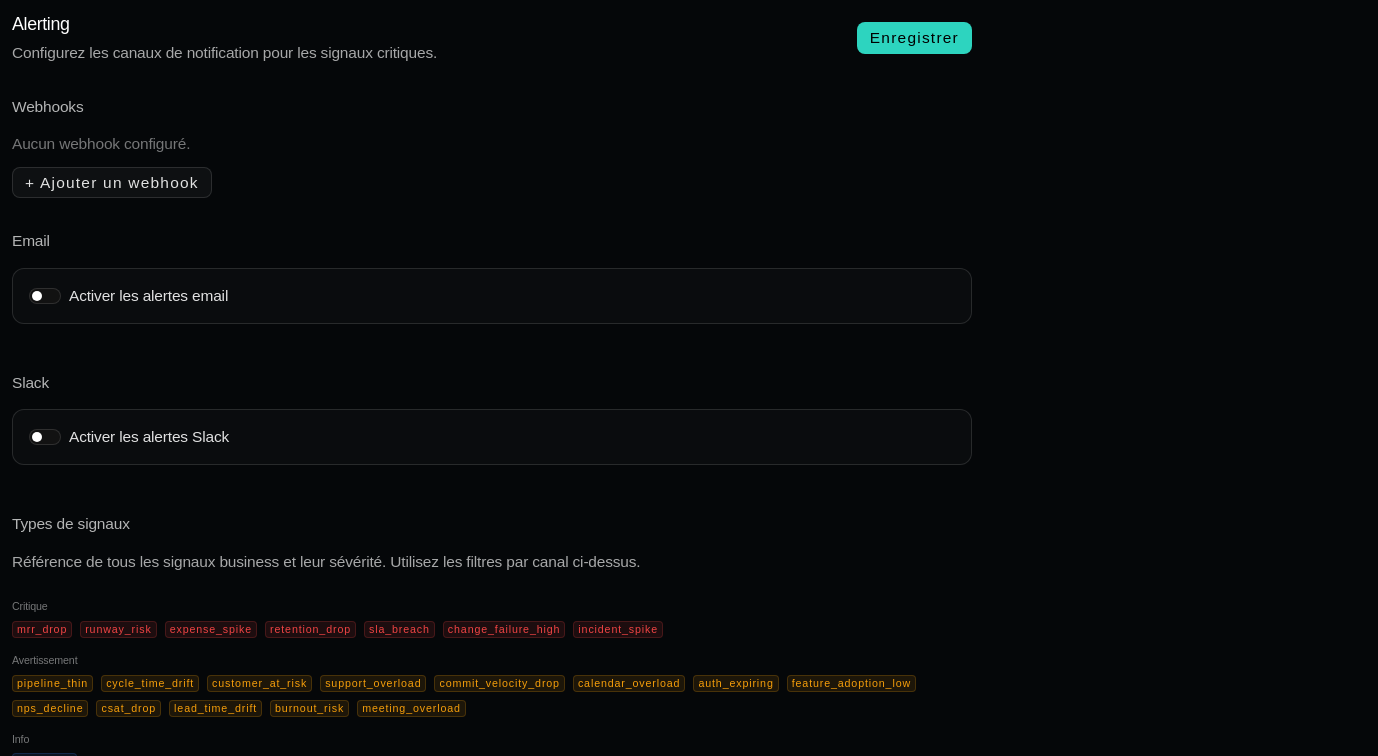
AlertingSettings — ajout webhook › ajoute un webhook valide et masque le formulaire
Expected: the heading "Alerting" is shown, [12, 14, 70, 34]
Click the button "+ Ajouter un webhook".
click(112, 183)  # box [12, 167, 212, 198]
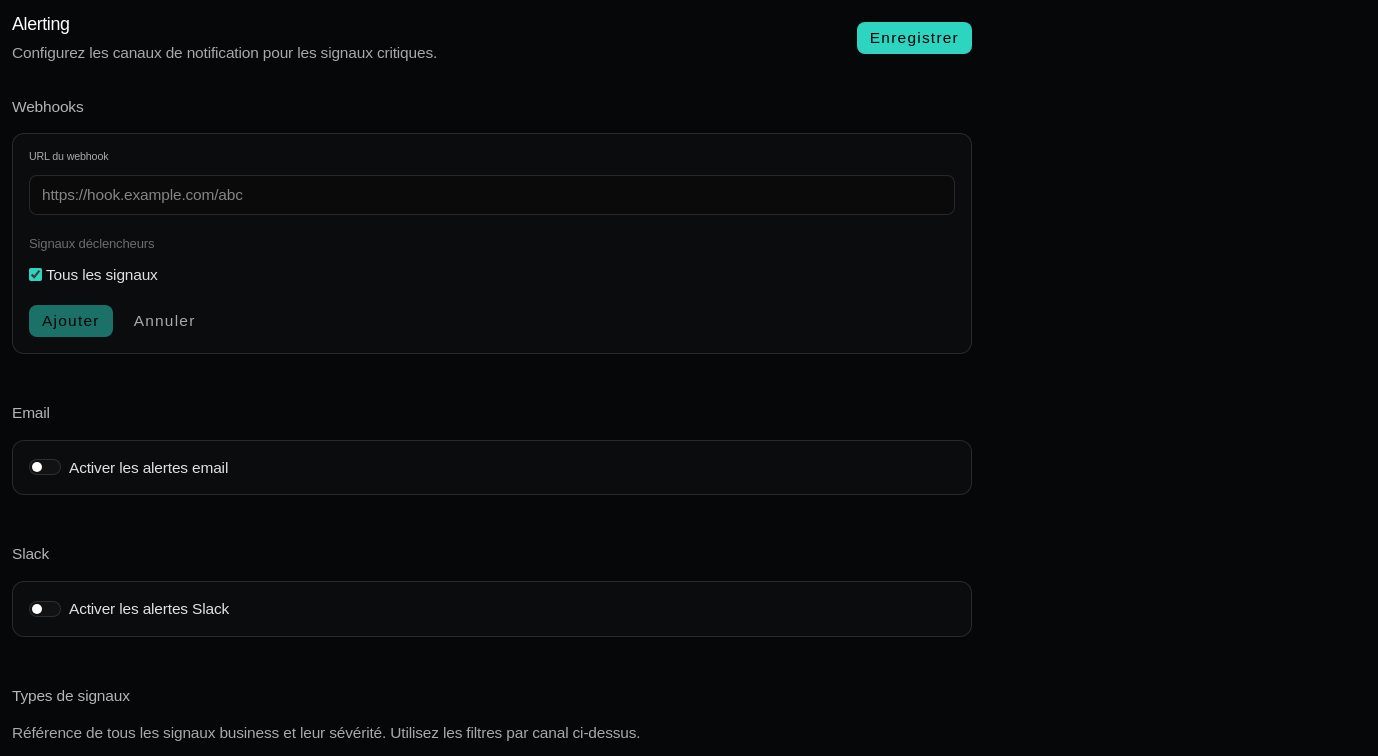
Result: the field with placeholder "https://hook.example.com/abc" is shown
Type "https://hook.example.com/new" into the field with placeholder "https://hook.example.com/abc".
click(492, 195); type("https://hook.example.com/new")  # box [29, 175, 955, 215]
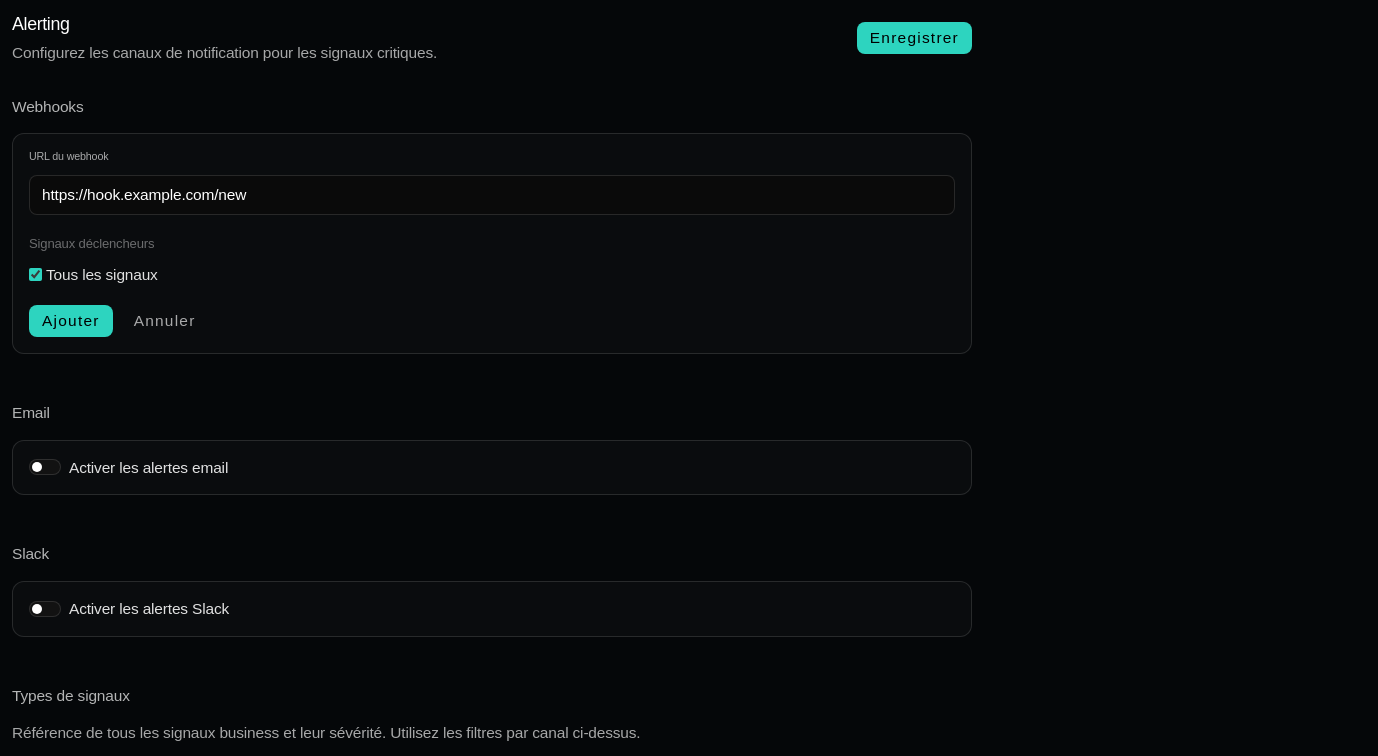
Click the button "Ajouter".
click(71, 321)  # box [29, 305, 113, 337]
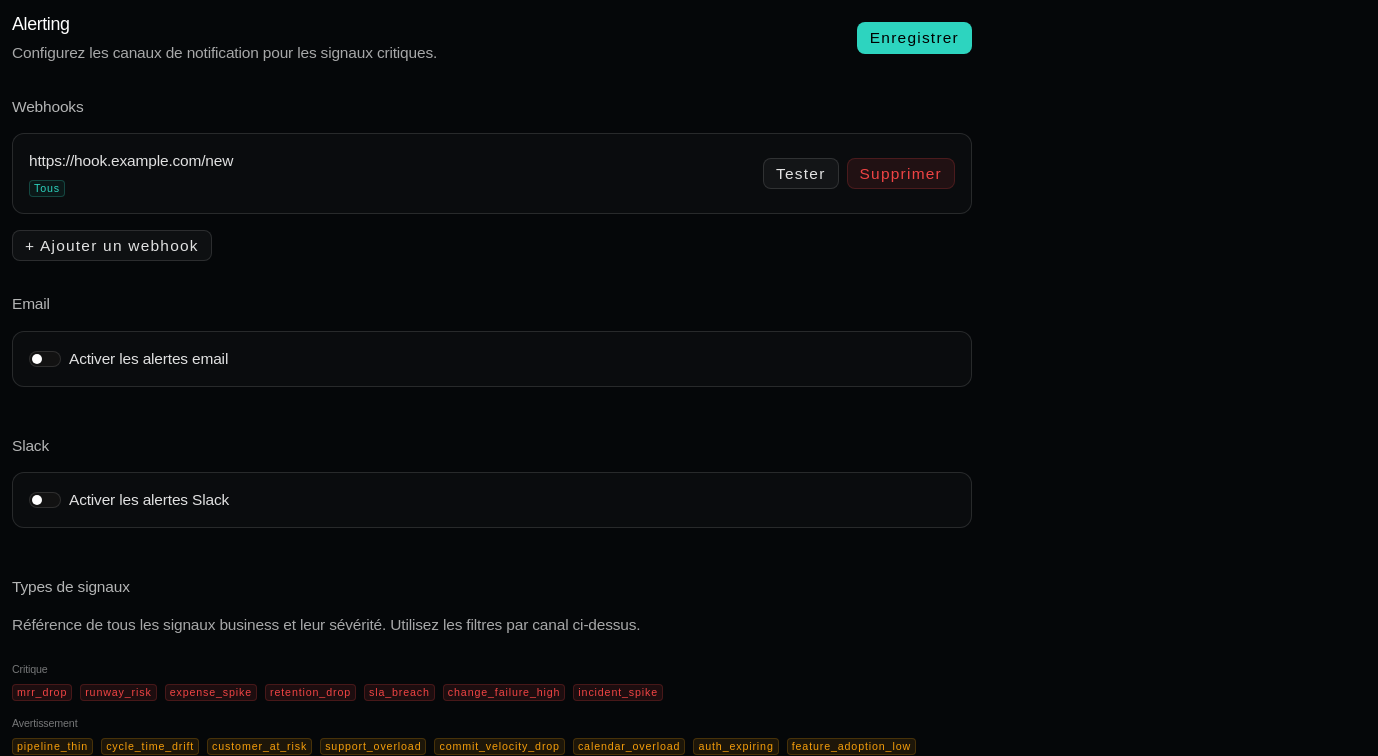
Result: the text "https://hook.example.com/new" is shown at [29, 152, 233, 169]
